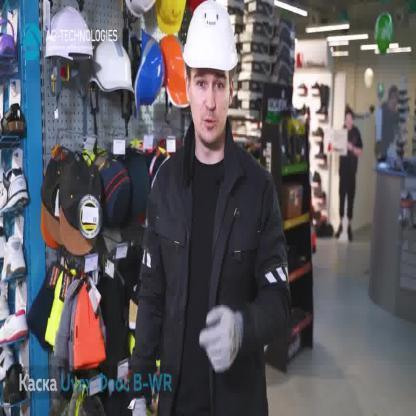gloves: (197, 302, 243, 373)
helmet: (183, 0, 240, 70), (45, 6, 94, 64), (91, 38, 138, 93), (134, 30, 166, 110), (162, 35, 190, 107), (153, 0, 188, 37), (123, 0, 158, 21)
